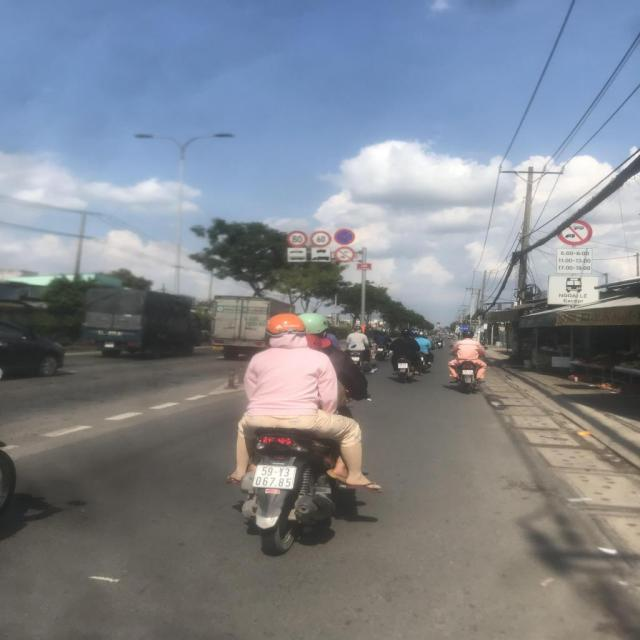cam_dung_xe_va_do_xe: (334, 230, 355, 246), (437, 322, 440, 324)
cam_o_to_tai_va_xe_khach: (557, 220, 593, 246), (456, 325, 458, 327)
cam_xe_2_banh_va_xe_3_banh_co_dong_co: (334, 247, 356, 263), (438, 324, 440, 326)
khac: (547, 276, 599, 304), (556, 248, 592, 274), (288, 248, 306, 256), (312, 248, 329, 256), (288, 256, 306, 262), (312, 256, 329, 262), (455, 330, 459, 333), (456, 328, 458, 330)
lan_duong_cho_tung_xe_theo_vach_ke_duong: (460, 326, 468, 330)
toc_do_toi_da_60: (309, 231, 332, 247)
toc_do_toi_da_80: (286, 232, 308, 248)
